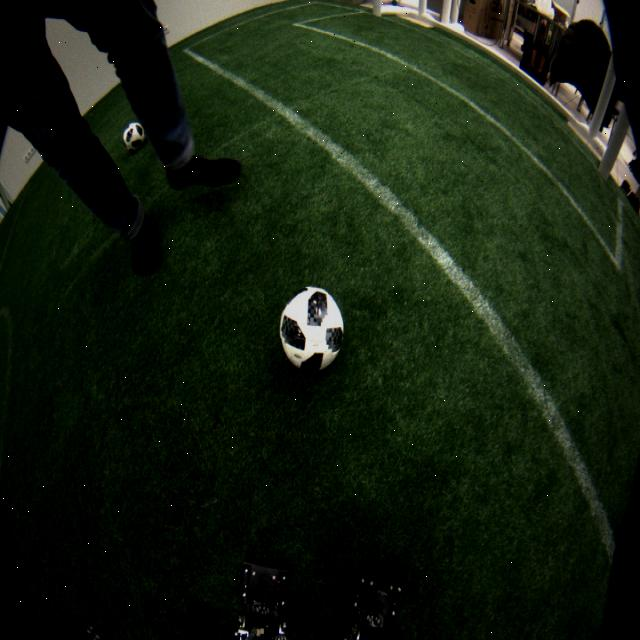ball: (279, 287, 345, 372), (123, 123, 145, 151)
goalpost: (599, 101, 632, 181), (372, 2, 382, 17)
